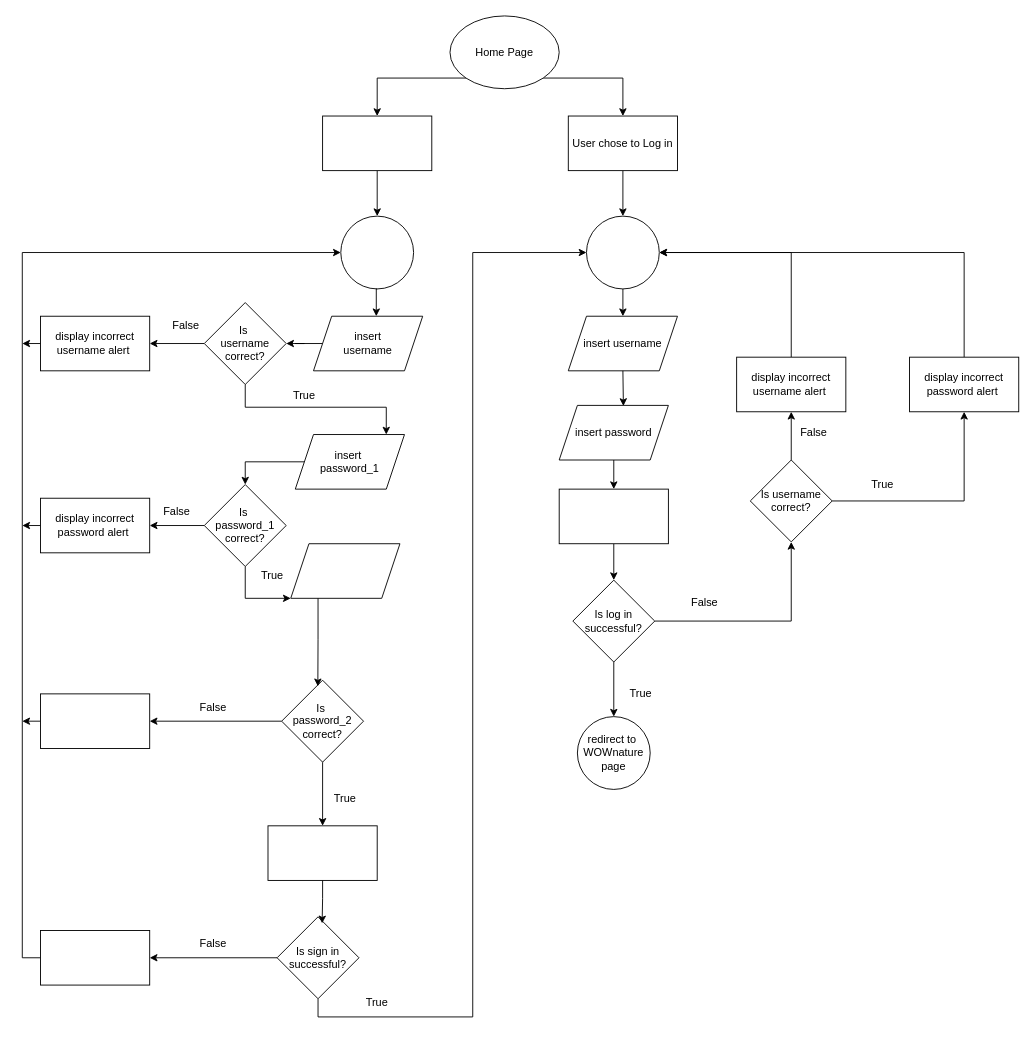
This 1035x1040 diagram has some shape labels left out. The centre of each missing label's shape, as x and y in pixels:
display don't match alert: the point at 95,720
display sign in unsuccessful alert: the point at 95,957
insert password_2: the point at 345,570
redirect to Log In page: the point at 622,252
redirect to Sign In page: the point at 377,252
User chose to Sign in: the point at 377,143
User push Log in: the point at 613,516
User push Sign in: the point at 322,852
